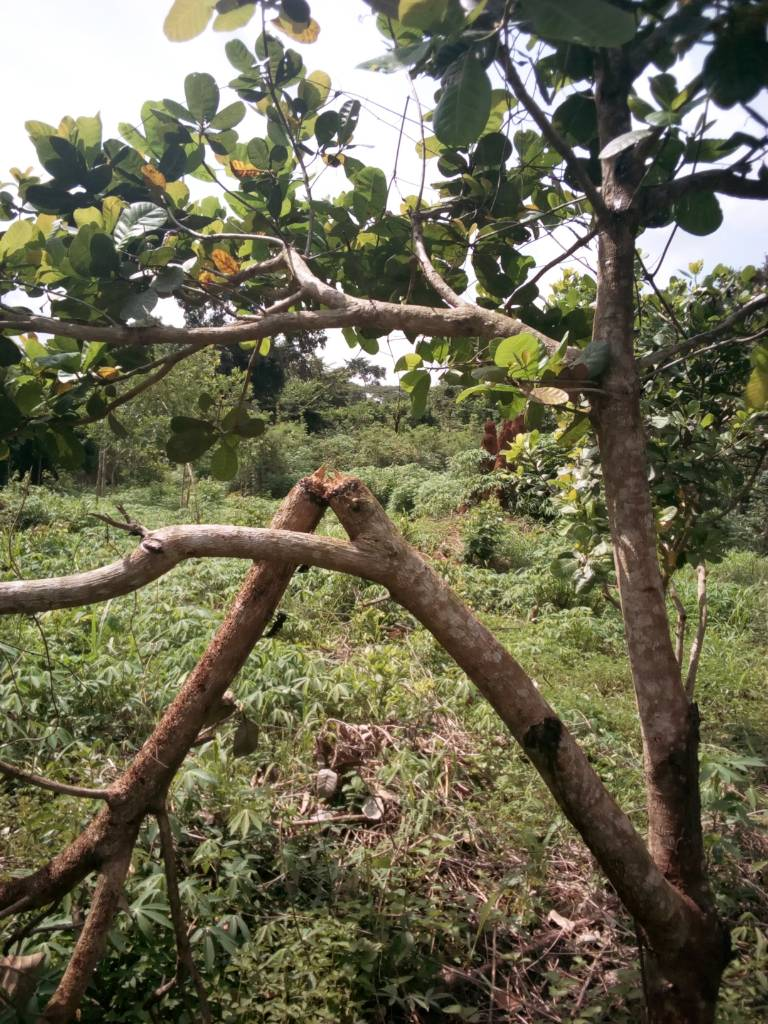Analepse trifasciata: (283, 458, 385, 521)
